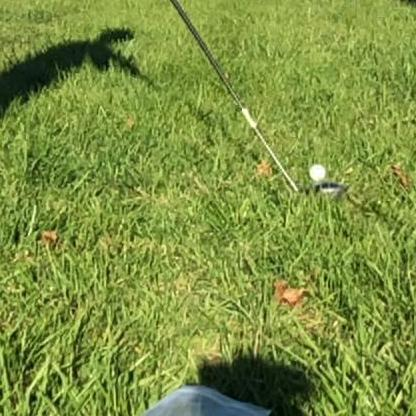golfball: (306, 162, 323, 181)
